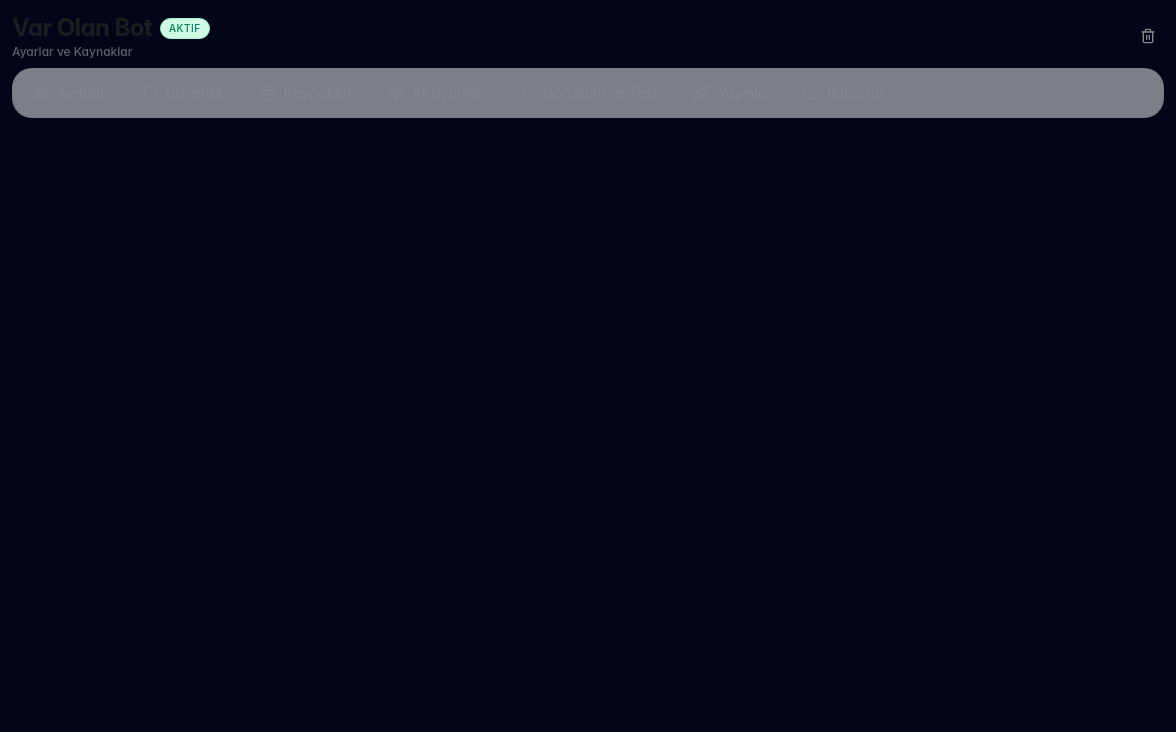
Test: ChatbotDetailPage save/delete › deletes existing chatbot and shows success toast
This screenshot has width=1176, height=732.
Check: the heading "Var Olan Bot" is shown, box [12,12,152,44]
Click the button named "Sil": (1148, 36) [1132,20,1164,52]
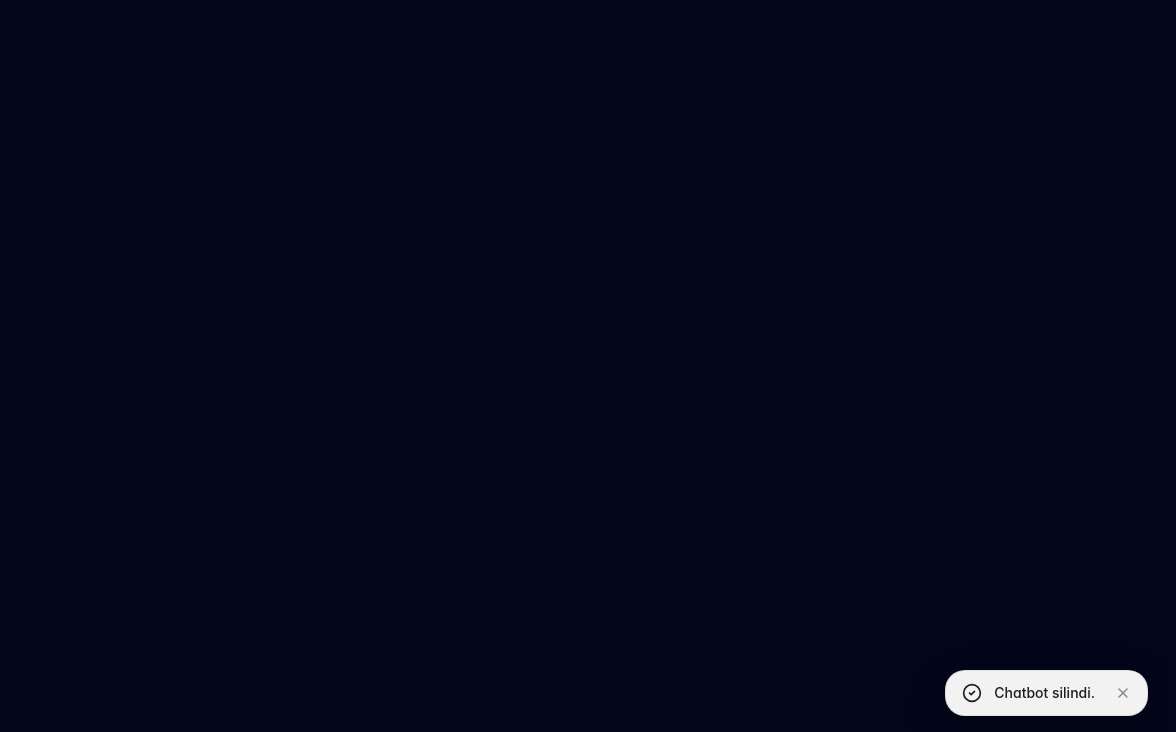
Check: the text "Chatbot silindi." is shown, box [994,683,1095,703]
